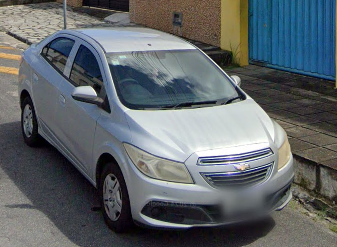car: (16, 27, 295, 236)
